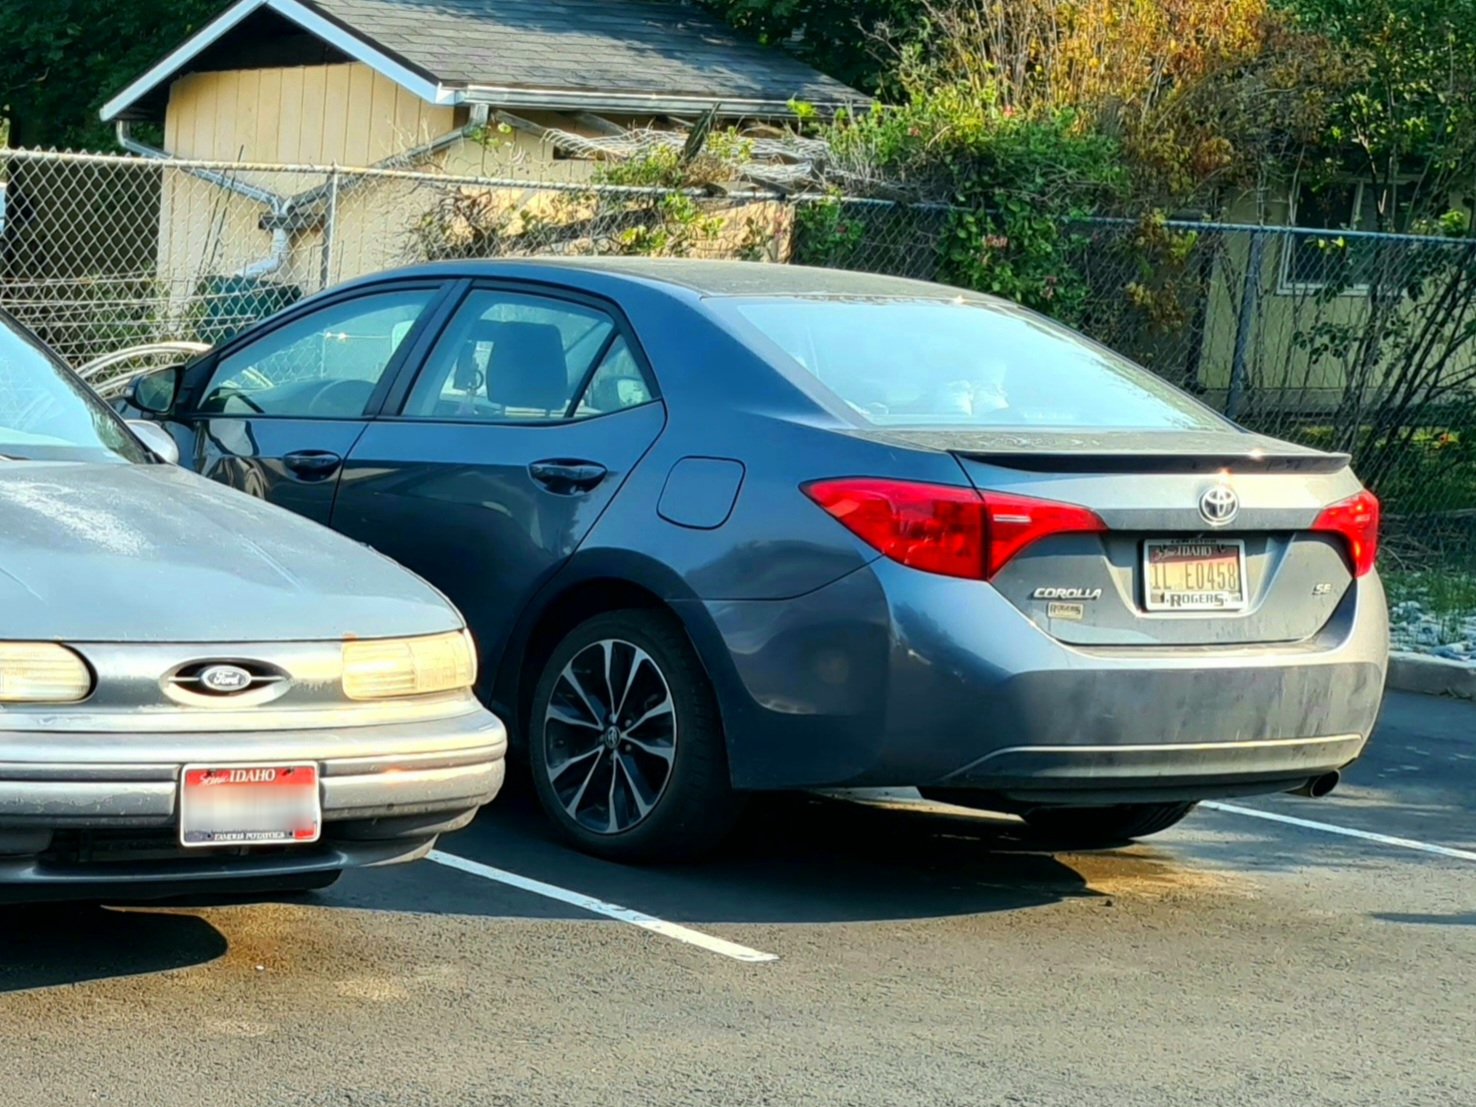license plate: (1144, 544, 1245, 608)
